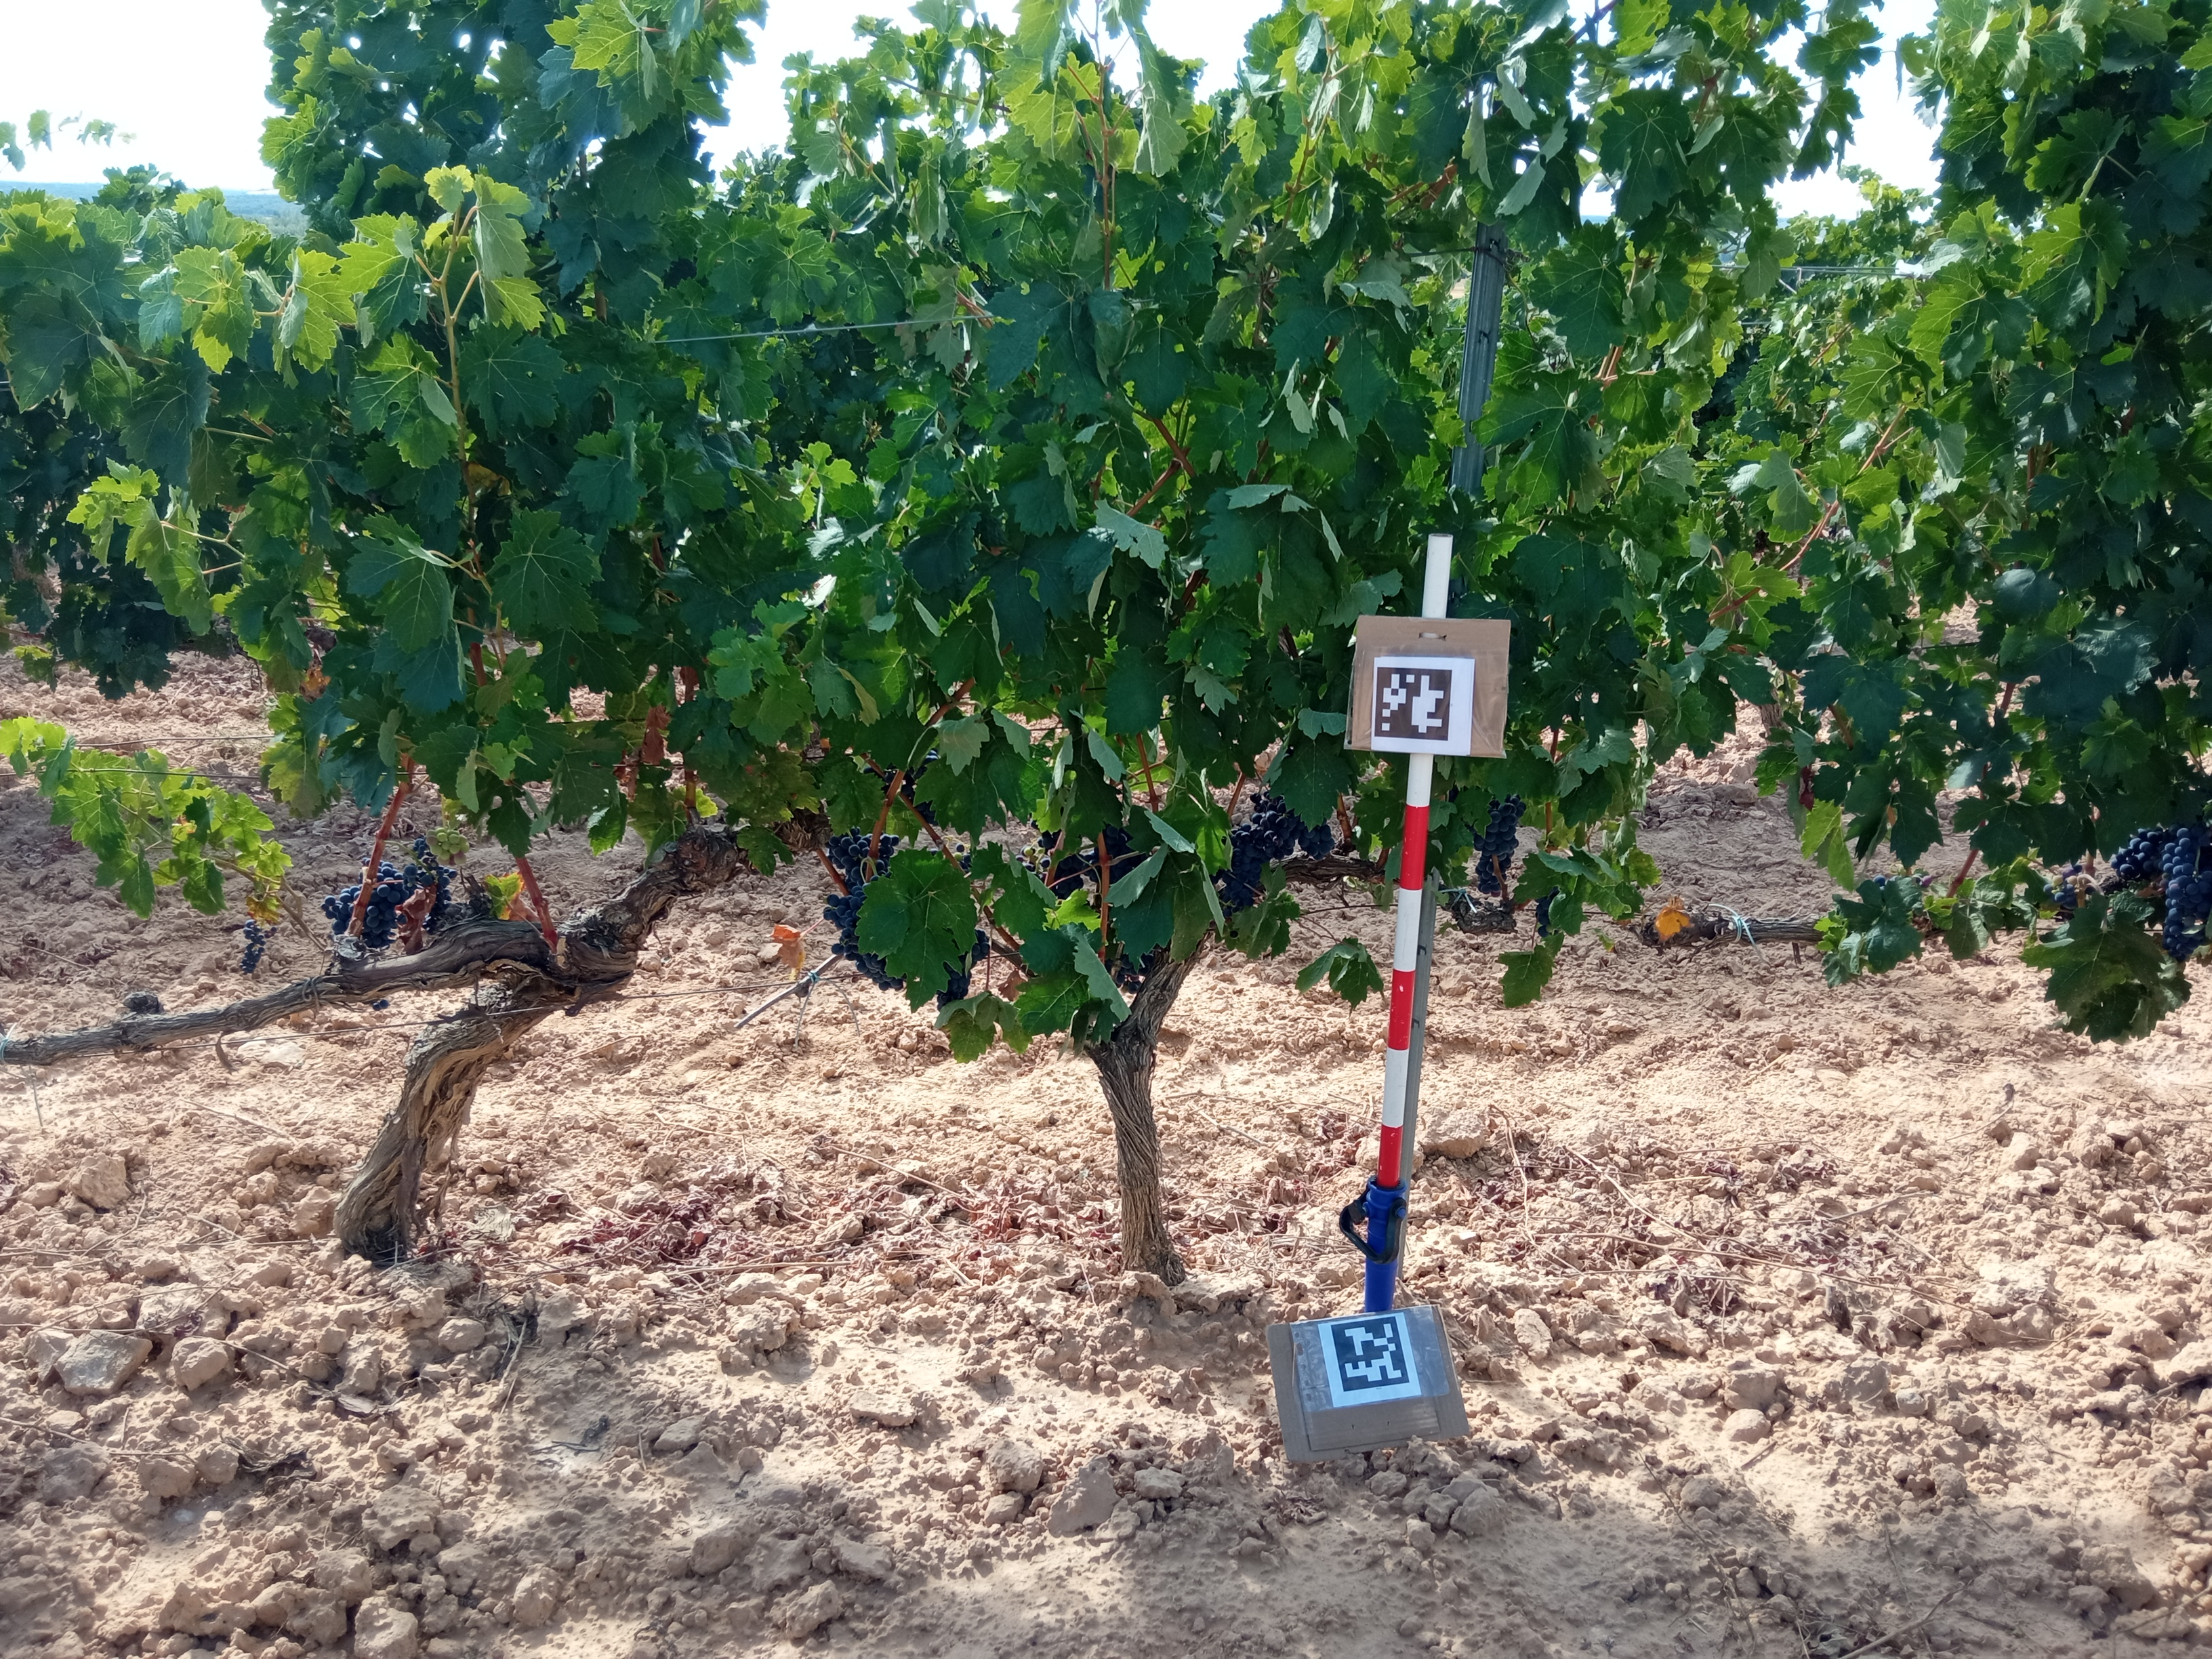grapes: (2111, 824, 2212, 964), (1224, 791, 1336, 917), (322, 831, 442, 941), (824, 885, 897, 990), (1472, 793, 1527, 897), (826, 826, 894, 884), (941, 931, 989, 1000), (1104, 824, 1146, 878), (239, 920, 277, 978), (2043, 864, 2090, 906), (423, 826, 470, 864), (1054, 854, 1094, 894), (1534, 887, 1561, 938)
